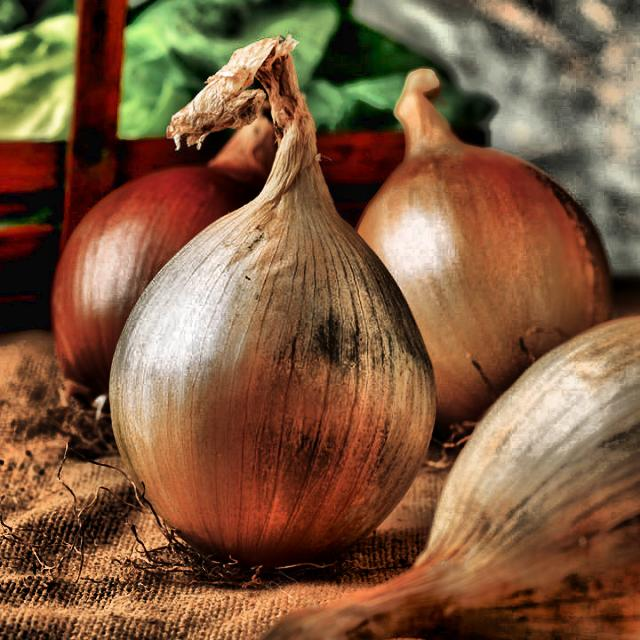onion: (104, 18, 450, 558)
